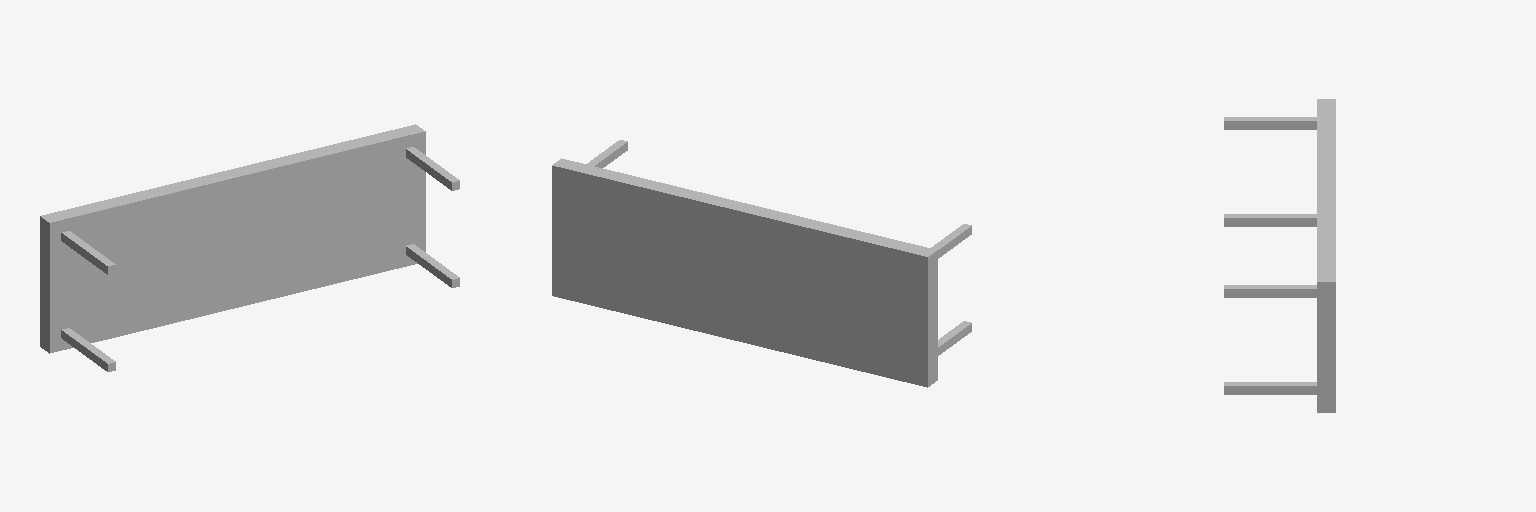
File: random_table16.obj
3 views of the same model, side by side, from view 1: azimuth 30°, elevation 25°; view 2: azimuth 150°, elevation 25°; view 3: azimuth 270°, elevation 25° (orthographic).
Visible parts, largest first — view 1: Table_Cube.275, TableLeg1_Cube.277, TableLeg3_Cube.279, TableLeg0_Cube.276, TableLeg2_Cube.278; view 2: Table_Cube.275, TableLeg1_Cube.277, TableLeg3_Cube.279; view 3: Table_Cube.275, TableLeg0_Cube.276, TableLeg1_Cube.277, TableLeg2_Cube.278, TableLeg3_Cube.279.
Boxes of the visible parts, <box> form: Table_Cube.275: <box>40,124,425,353</box>; TableLeg1_Cube.277: <box>61,231,115,274</box>; TableLeg3_Cube.279: <box>61,328,115,371</box>; TableLeg0_Cube.276: <box>406,147,459,190</box>; TableLeg2_Cube.278: <box>406,244,459,287</box>; Table_Cube.275: <box>552,158,937,387</box>; TableLeg1_Cube.277: <box>931,224,971,258</box>; TableLeg3_Cube.279: <box>938,321,971,355</box>; Table_Cube.275: <box>1317,99,1335,412</box>; TableLeg0_Cube.276: <box>1224,285,1316,297</box>; TableLeg1_Cube.277: <box>1224,117,1316,129</box>; TableLeg2_Cube.278: <box>1224,382,1316,394</box>; TableLeg3_Cube.279: <box>1224,214,1316,226</box>.
Size of the model in its own units: 12.91 by 4.28 by 3.34.